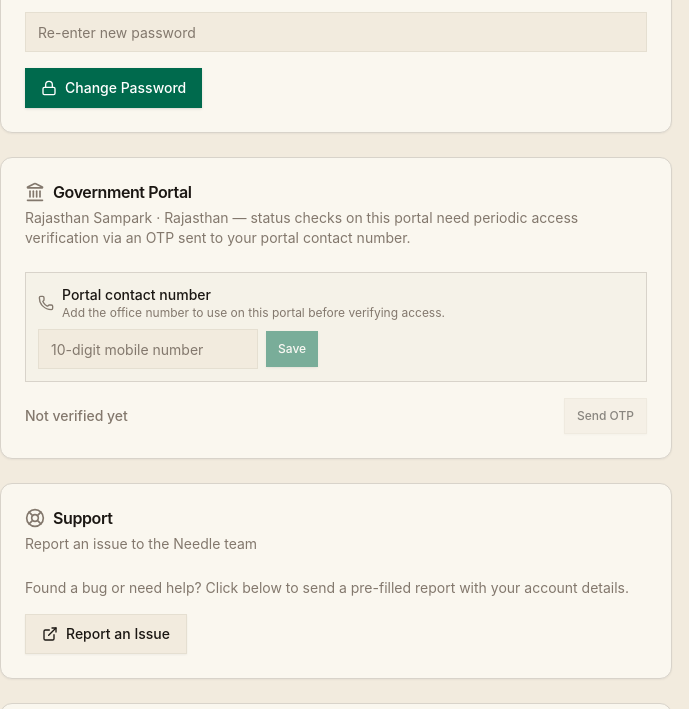
Scenario: Government portal contact number — saving › surfaces a save error inline without losing what was typed
(page scrolled)
Expected: the heading "Government Portal" is shown, [53,184,192,200]
Type "12345" into the field with placeholder "10-digit mobile number" at (148, 349), box [38,329,258,369]
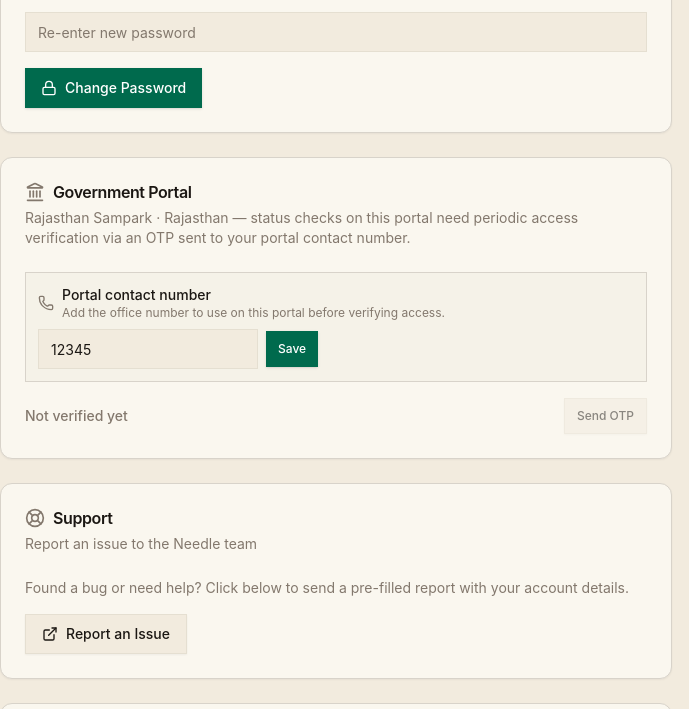
Click the button "Save" at (292, 349), box [266,331,318,367]
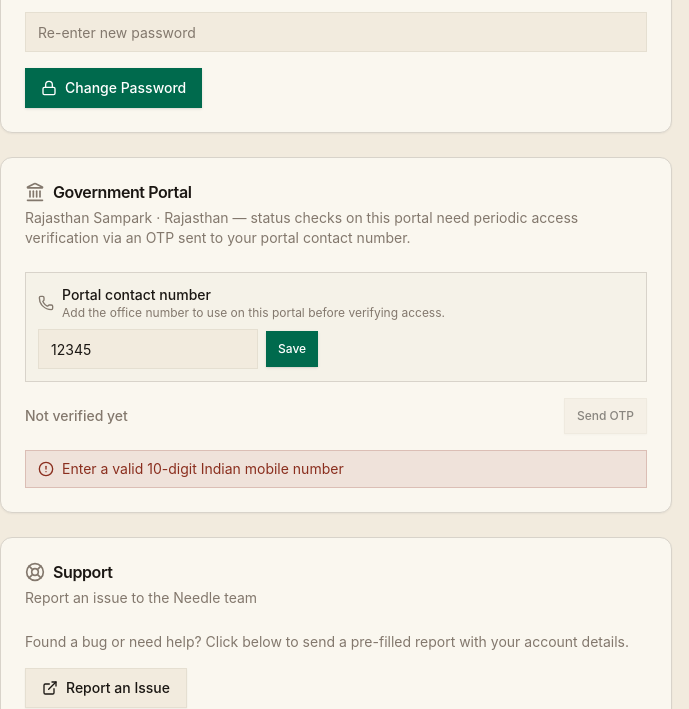
Expected: the text "Enter a valid 10-digit Indian mobile number" is shown, [25,450,647,488]
